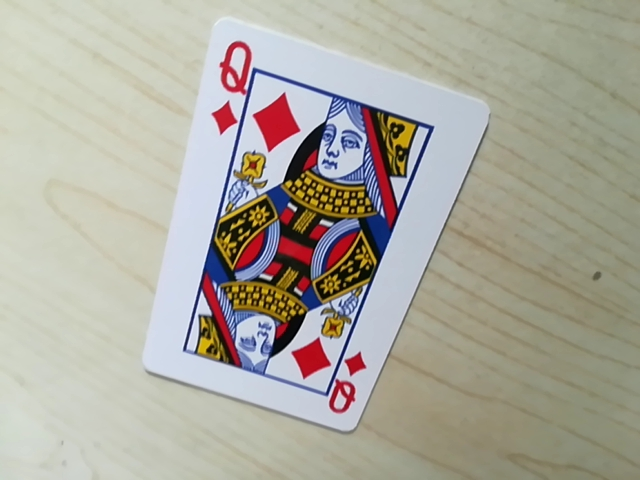fk q: (204, 28, 268, 136), (316, 366, 370, 421)
